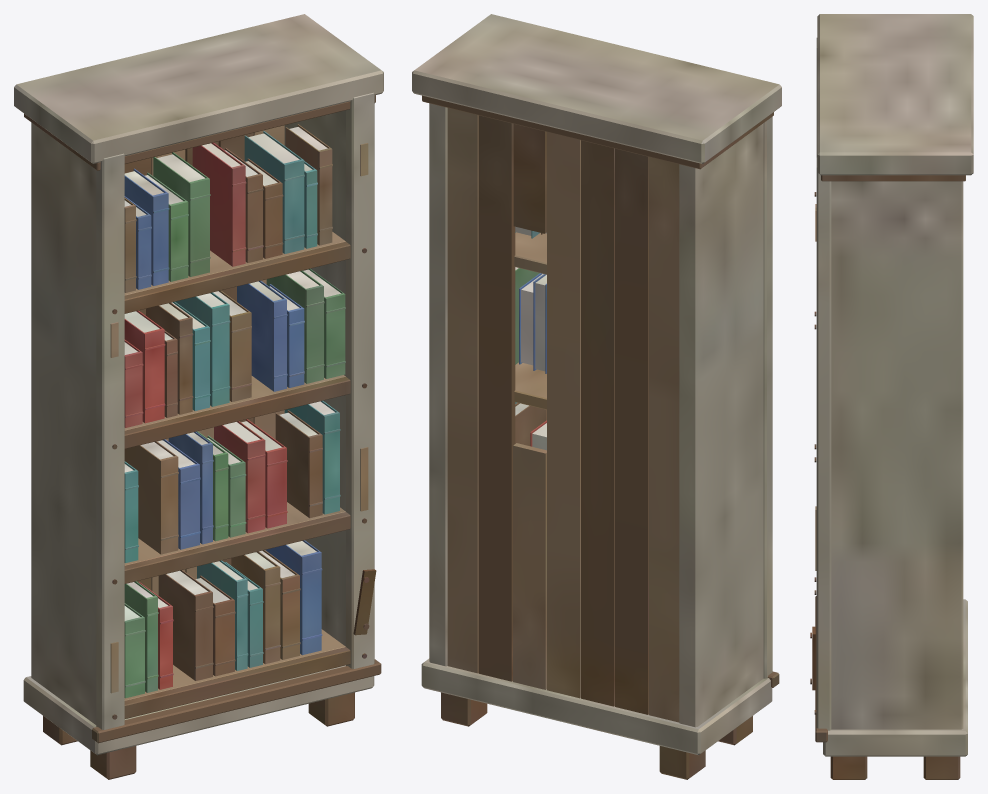
The model's file is Q11_tall_library_bookshelf_v2.glb.
3 views of the same model, side by side, from view 1: azimuth 30°, elevation 25°; view 2: azimuth 150°, elevation 25°; view 3: azimuth 270°, elevation 25° (orthographic).
Visible parts, largest first — view 1: Square cabinet foot; view 2: Square cabinet foot; view 3: Square cabinet foot.
Boxes of the visible parts, box(x1,y1,x2,y2) form: Square cabinet foot: box(14, 14, 383, 779); Square cabinet foot: box(412, 14, 781, 779); Square cabinet foot: box(810, 14, 973, 779).
Size of the model in its own units: 1.18 by 2.5 by 0.5805.
Materials: 11 (11 with a texture image).
